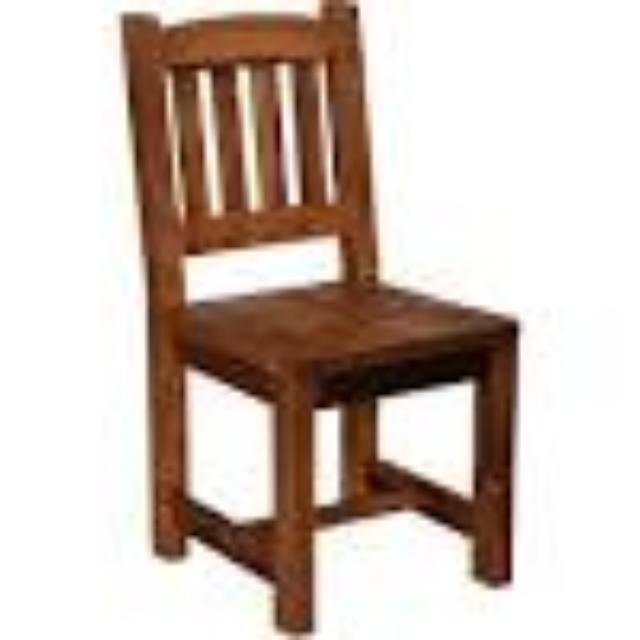obstacle: (72, 2, 554, 640)
